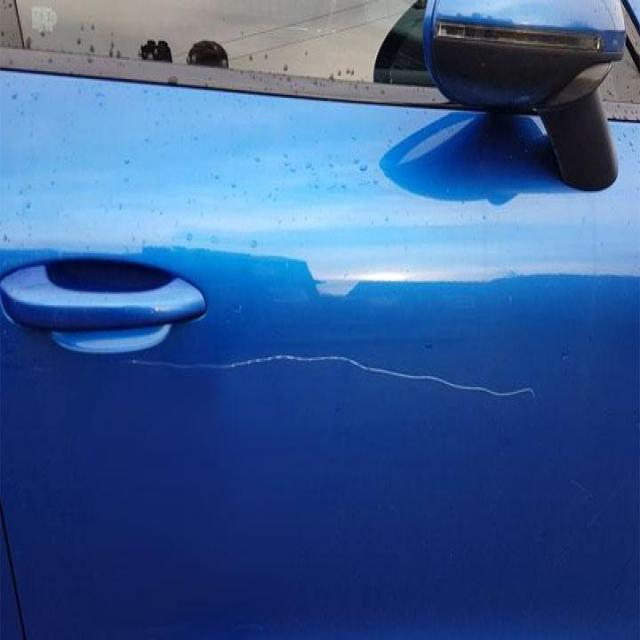scratch: (114, 350, 560, 420)
